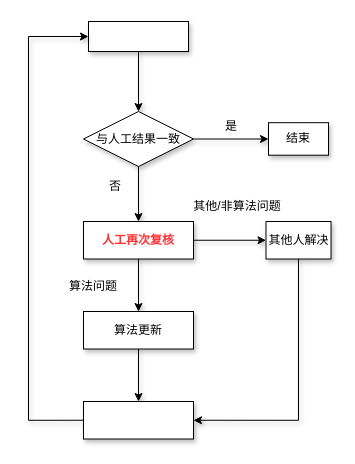
Image size: 355x464. Some labels were removed from this diagram. Here are the shapes that lost their labels. From the top down, the centre of each, then its label:
the point at 139,37: 算法上线
the point at 139,421: 不一致减少
